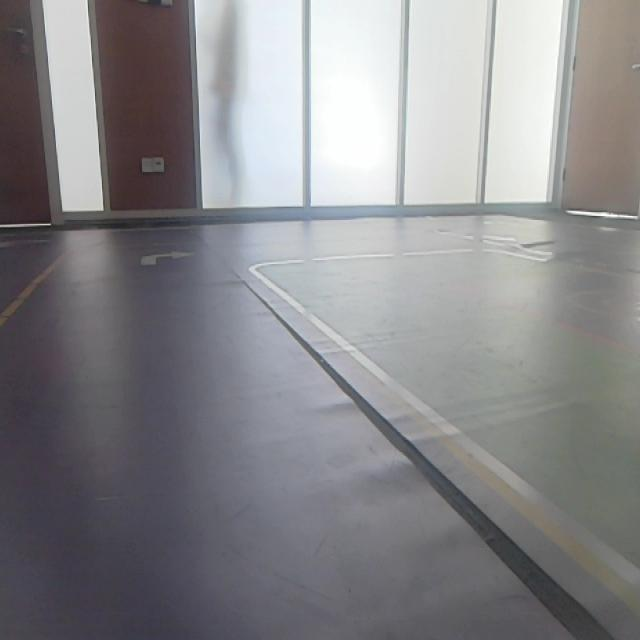left_lane: (0, 246, 68, 333)
right_lane: (252, 268, 640, 615)
